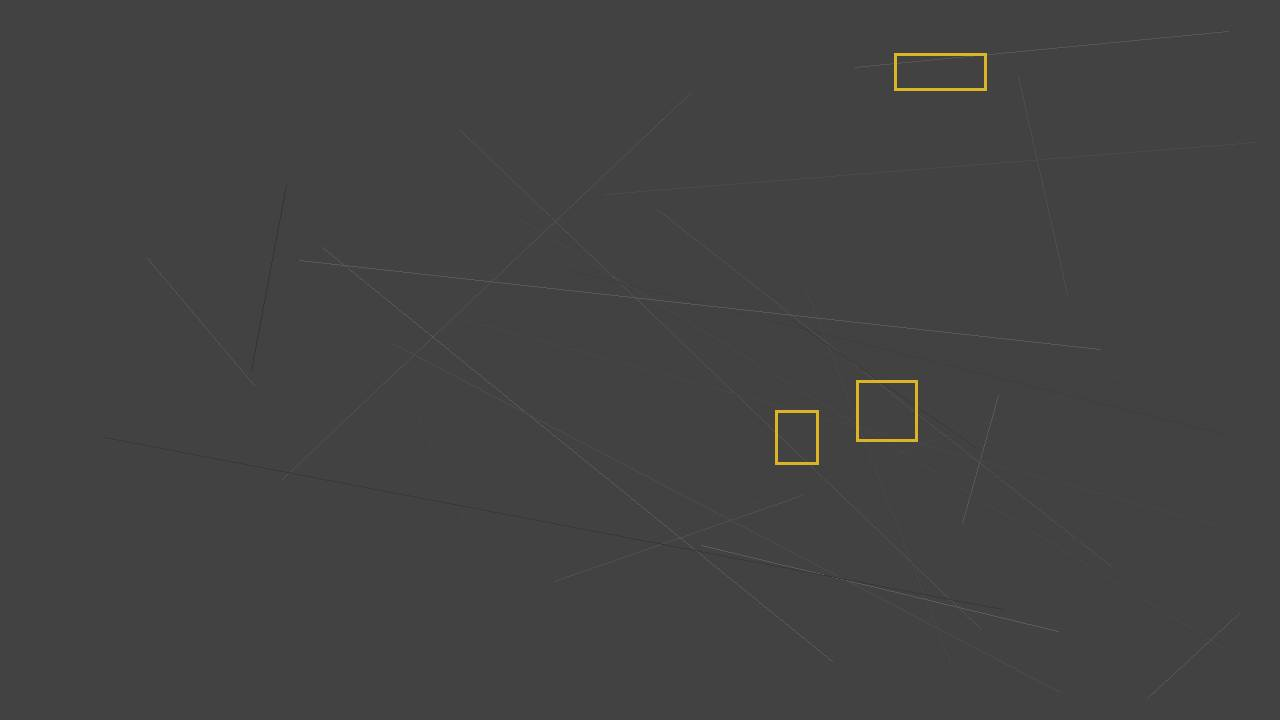D00: (775, 410, 818, 464)
D20: (856, 380, 917, 441)
D40: (894, 53, 986, 90)
